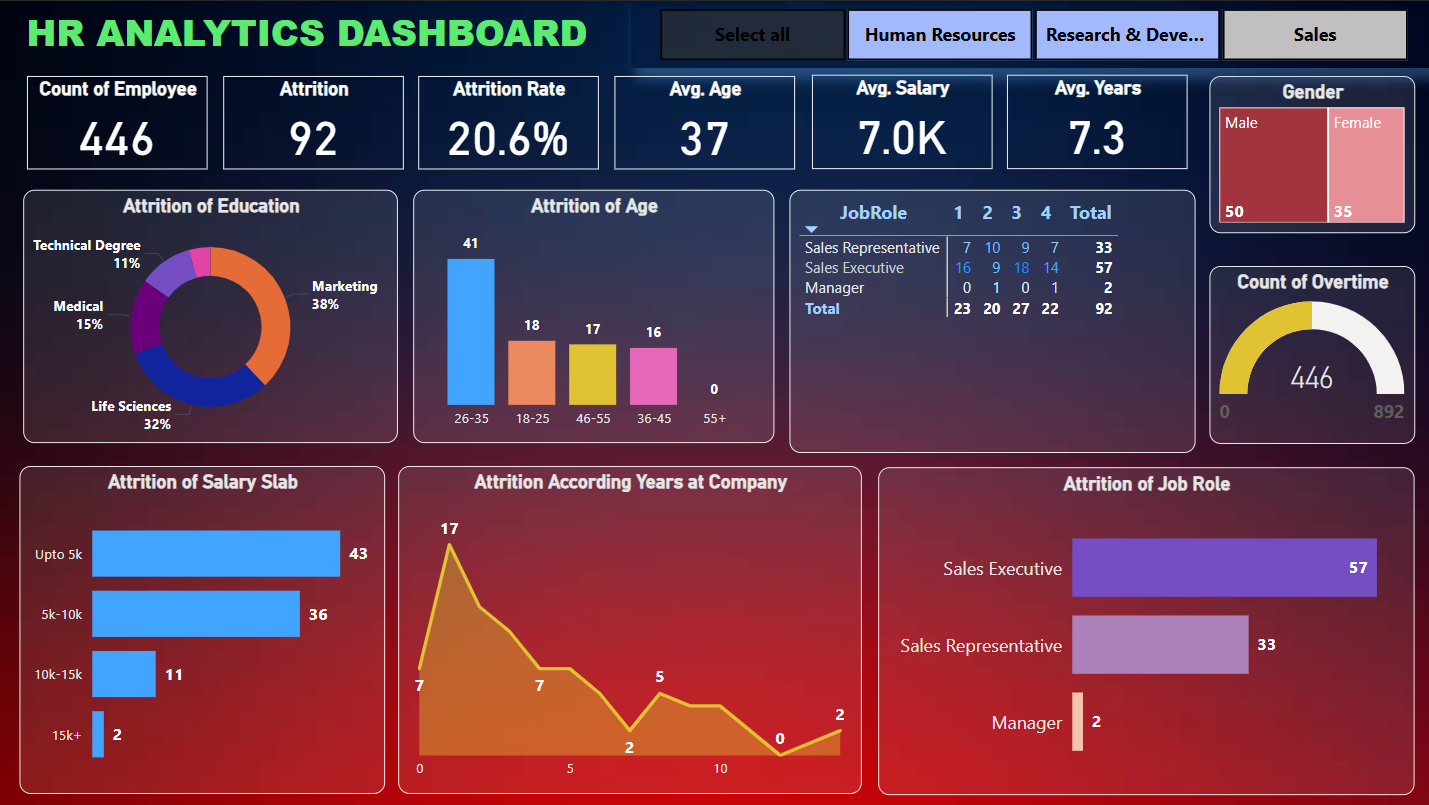

What the dashboard file says about the page in this screenshot:
{"tool":"powerbi","page":{"name":"Page 1","canvas":[1280,720],"ordinal":0},"visuals":[{"type":"card","title":"Count of Employee","fields":{"Values":["CountNonNull(HR_Analytics.EmpID)"]},"box":[26.3,66.4,160.8,83.2],"z":0},{"type":"card","title":"Attrition","fields":{"Values":["Sum(HR_Analytics.AttritionCount)"]},"box":[201.4,66.4,160.8,83.2],"z":1000},{"type":"card","title":"Attrition Rate","fields":{"Values":["HR_Analytics.AttritionRate"]},"box":[375.1,66.4,160.8,83.2],"z":2000},{"type":"card","title":"Avg. Age","fields":{"Values":["Avg(HR_Analytics.Age)"]},"box":[550.2,66.4,160.8,83.2],"z":3000},{"type":"card","title":"Avg. Salary","fields":{"Values":["Avg(HR_Analytics.MonthlyIncome)"]},"box":[725.4,66.2,160.5,83.7],"z":4000},{"type":"card","title":"Avg. Years","fields":{"Values":["Avg(HR_Analytics.YearsAtCompany)"]},"box":[899.7,66.2,160.5,83.7],"z":5000},{"type":"donutChart","title":"Attrition of Education","fields":{"Category":["HR_Analytics.EducationField"],"Y":["Sum(HR_Analytics.AttritionCount)"]},"box":[23.3,168.1,333.7,225.8],"z":6000},{"type":"columnChart","title":"Attrition of Age","fields":{"Category":["HR_Analytics.AgeGroup"],"Y":["Sum(HR_Analytics.AttritionCount)"]},"box":[370.6,168.1,321.5,225.8],"z":7000},{"type":"pivotTable","fields":{"Rows":["HR_Analytics.JobRole"],"Columns":["HR_Analytics.JobSatisfaction"],"Values":["Sum(HR_Analytics.AttritionCount)"]},"box":[705.5,168.1,362,234.4],"z":8000},{"type":"clusteredBarChart","title":"Attrition of Salary Slab","fields":{"Category":["HR_Analytics.SalarySlab"],"Y":["Sum(HR_Analytics.AttritionCount)"]},"box":[20.4,414.2,325.3,291.9],"z":9000},{"type":"clusteredBarChart","title":"Attrition of Job Role","fields":{"Category":["HR_Analytics.JobRole"],"Y":["Sum(HR_Analytics.AttritionCount)"]},"box":[785.3,414.7,477.3,292],"z":10000},{"type":"areaChart","title":"Attrition According Years at Company","fields":{"Category":["HR_Analytics.YearsAtCompany"],"Y":["Sum(HR_Analytics.AttritionCount)"]},"box":[356.8,414.2,412.9,291.9],"z":11000},{"type":"treemap","title":"Gender","fields":{"Group":["HR_Analytics.Gender"],"Values":["Sum(HR_Analytics.AttritionCount)"]},"box":[1079.8,66.3,182.8,139.9],"z":12000},{"type":"gauge","title":"Count of Overtime","fields":{"Y":["CountNonNull(HR_Analytics.OverTime)"]},"box":[1079.8,235.6,182.8,158.3],"z":13000},{"type":"textbox","box":[20.9,0,554.6,61.4],"z":14000},{"type":"slicer","fields":{"Values":["HR_Analytics.Department"]},"box":[564.4,0,715.9,59.8],"z":15000}]}

Visuals, with their boxes in screenshot pixels (x1, y1, x2, y2), scaled from the page's 1280x720 canvas onto the 1429x805 screenshot:
"Count of Employee" card: [29, 74, 209, 167]
"Attrition" card: [225, 74, 404, 167]
"Attrition Rate" card: [419, 74, 598, 167]
"Avg. Age" card: [614, 74, 794, 167]
"Avg. Salary" card: [810, 74, 989, 168]
"Avg. Years" card: [1004, 74, 1184, 168]
"Attrition of Education" donutChart: [26, 188, 399, 440]
"Attrition of Age" columnChart: [414, 188, 773, 440]
pivotTable - HR_Analytics.JobRole x HR_Analytics.JobSatisfaction: [788, 188, 1192, 450]
"Attrition of Salary Slab" clusteredBarChart: [23, 463, 386, 789]
"Attrition of Job Role" clusteredBarChart: [877, 464, 1410, 790]
"Attrition According Years at Company" areaChart: [398, 463, 859, 789]
"Gender" treemap: [1205, 74, 1410, 231]
"Count of Overtime" gauge: [1205, 263, 1410, 440]
textbox: [23, 0, 642, 69]
slicer - HR_Analytics.Department: [630, 0, 1428, 67]
